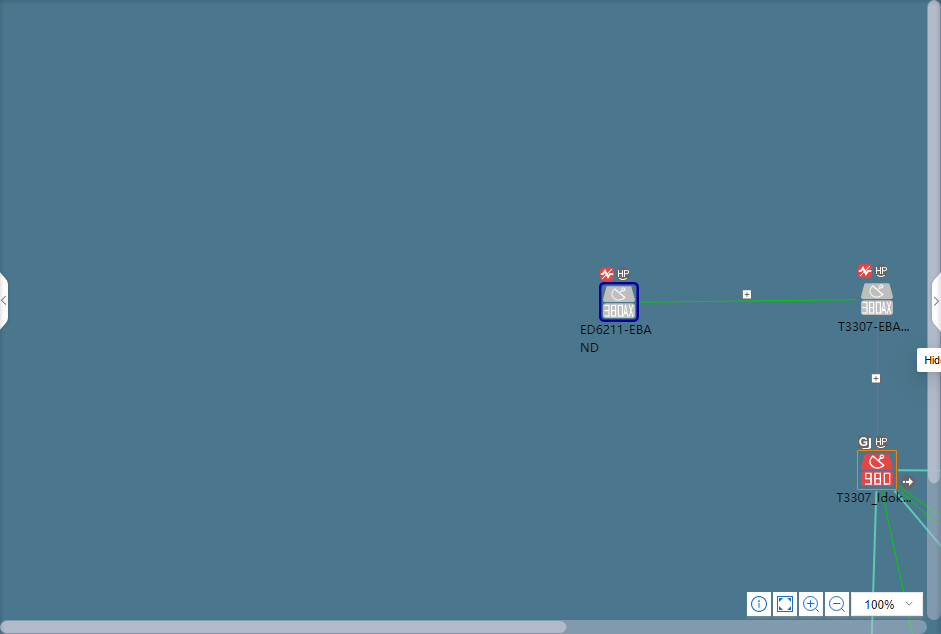Link_Blue: (893, 490, 941, 548), (872, 491, 879, 592), (897, 469, 926, 472)
Link_Green: (881, 492, 905, 592), (640, 296, 857, 304), (898, 488, 927, 517), (898, 484, 927, 508)
Link_Red: (876, 320, 879, 433)
RTN_Gray: (600, 285, 636, 320), (861, 284, 892, 315)
RTN_Red: (858, 453, 895, 488)
